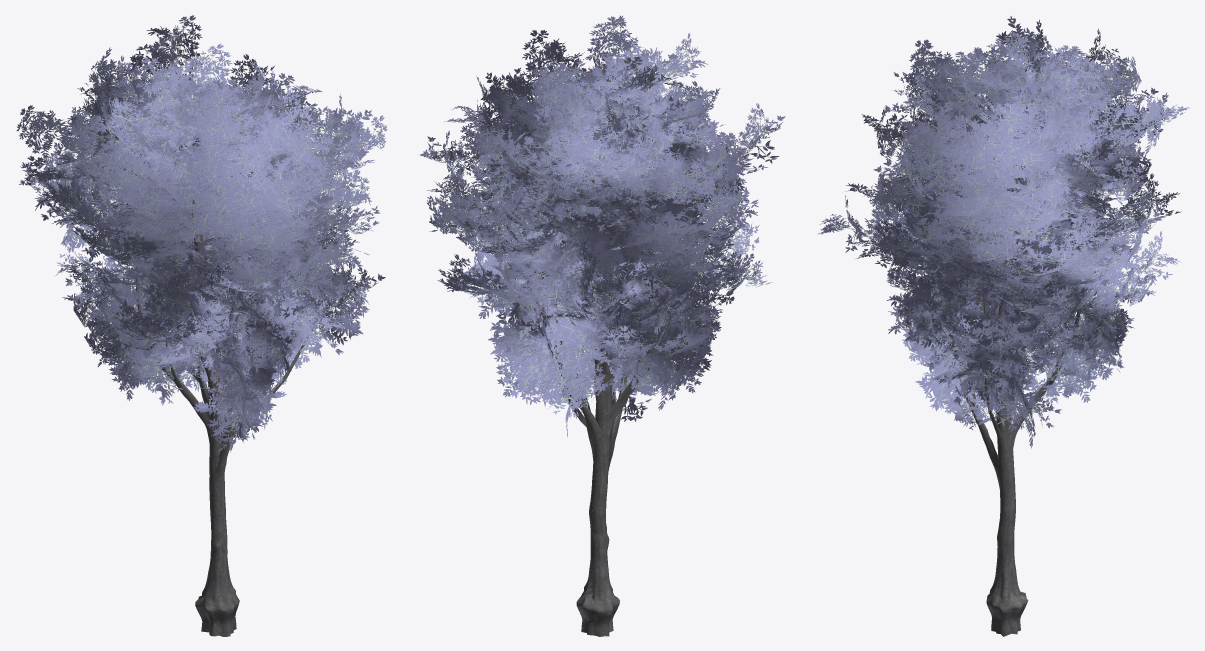
3 renders of one model, left to right at view 1: azimuth 30°, elevation 25°; view 2: azimuth 150°, elevation 25°; view 3: azimuth 270°, elevation 25°, orthographic.
Parts seen in each view (by area): view 1: SM_FH_Ash_Tree_02_LOD0; view 2: SM_FH_Ash_Tree_02_LOD0; view 3: SM_FH_Ash_Tree_02_LOD0.
Part boxes in pixels (<box>): SM_FH_Ash_Tree_02_LOD0: <box>16,15,387,636</box>; SM_FH_Ash_Tree_02_LOD0: <box>419,15,785,636</box>; SM_FH_Ash_Tree_02_LOD0: <box>817,16,1189,636</box>.
Size of the model in its own units: 11.46 by 19.24 by 11.33.
Materials: 2 (2 with a texture image).
